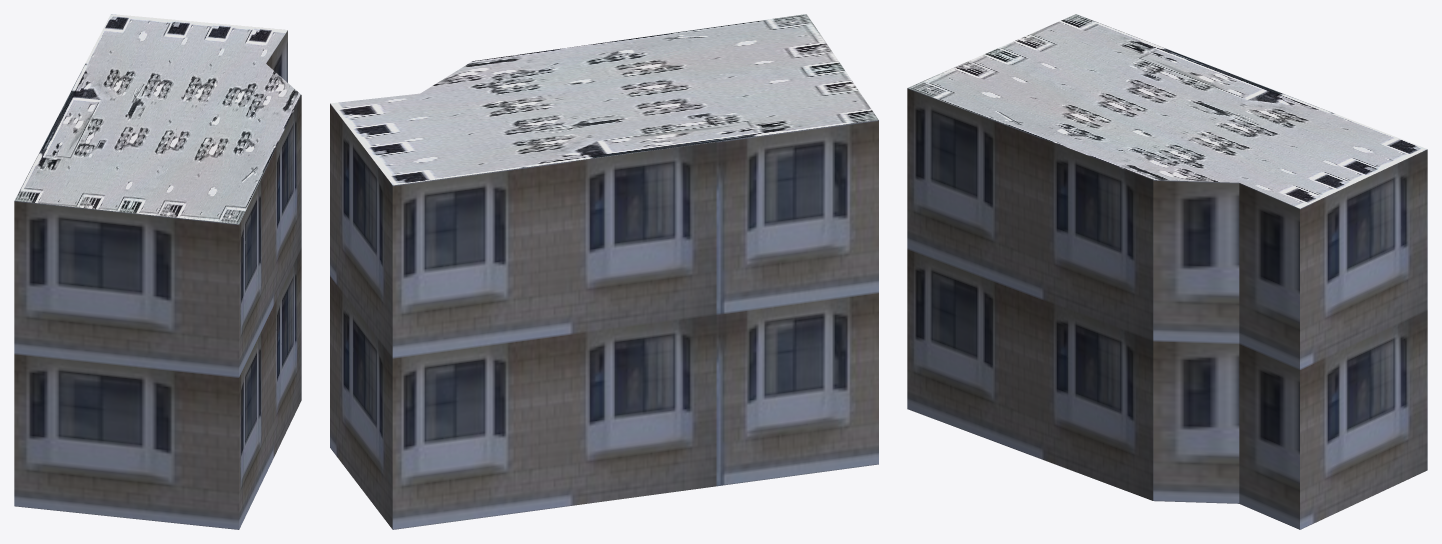
File: ResTex__4720.fbx
3 renders of one model, left to right at view 1: azimuth 30°, elevation 25°; view 2: azimuth 150°, elevation 25°; view 3: azimuth 270°, elevation 25°, orthographic. The views are drawn at different scales.
Visible parts, largest first — view 1: CityEngineMaterial_3_m, CityEngineMaterial_8_m; view 2: CityEngineMaterial_3_m, CityEngineMaterial_8_m; view 3: CityEngineMaterial_3_m, CityEngineMaterial_8_m.
Boxes of the visible parts, bbox=[...] form: CityEngineMaterial_3_m: bbox=[14, 30, 301, 529]; CityEngineMaterial_8_m: bbox=[14, 14, 301, 224]; CityEngineMaterial_3_m: bbox=[330, 103, 878, 529]; CityEngineMaterial_8_m: bbox=[330, 14, 878, 185]; CityEngineMaterial_3_m: bbox=[907, 88, 1427, 529]; CityEngineMaterial_8_m: bbox=[908, 14, 1427, 208].
Size of the model in its own units: 7.81 by 6 by 8.81.
2 materials, 2 textured.
